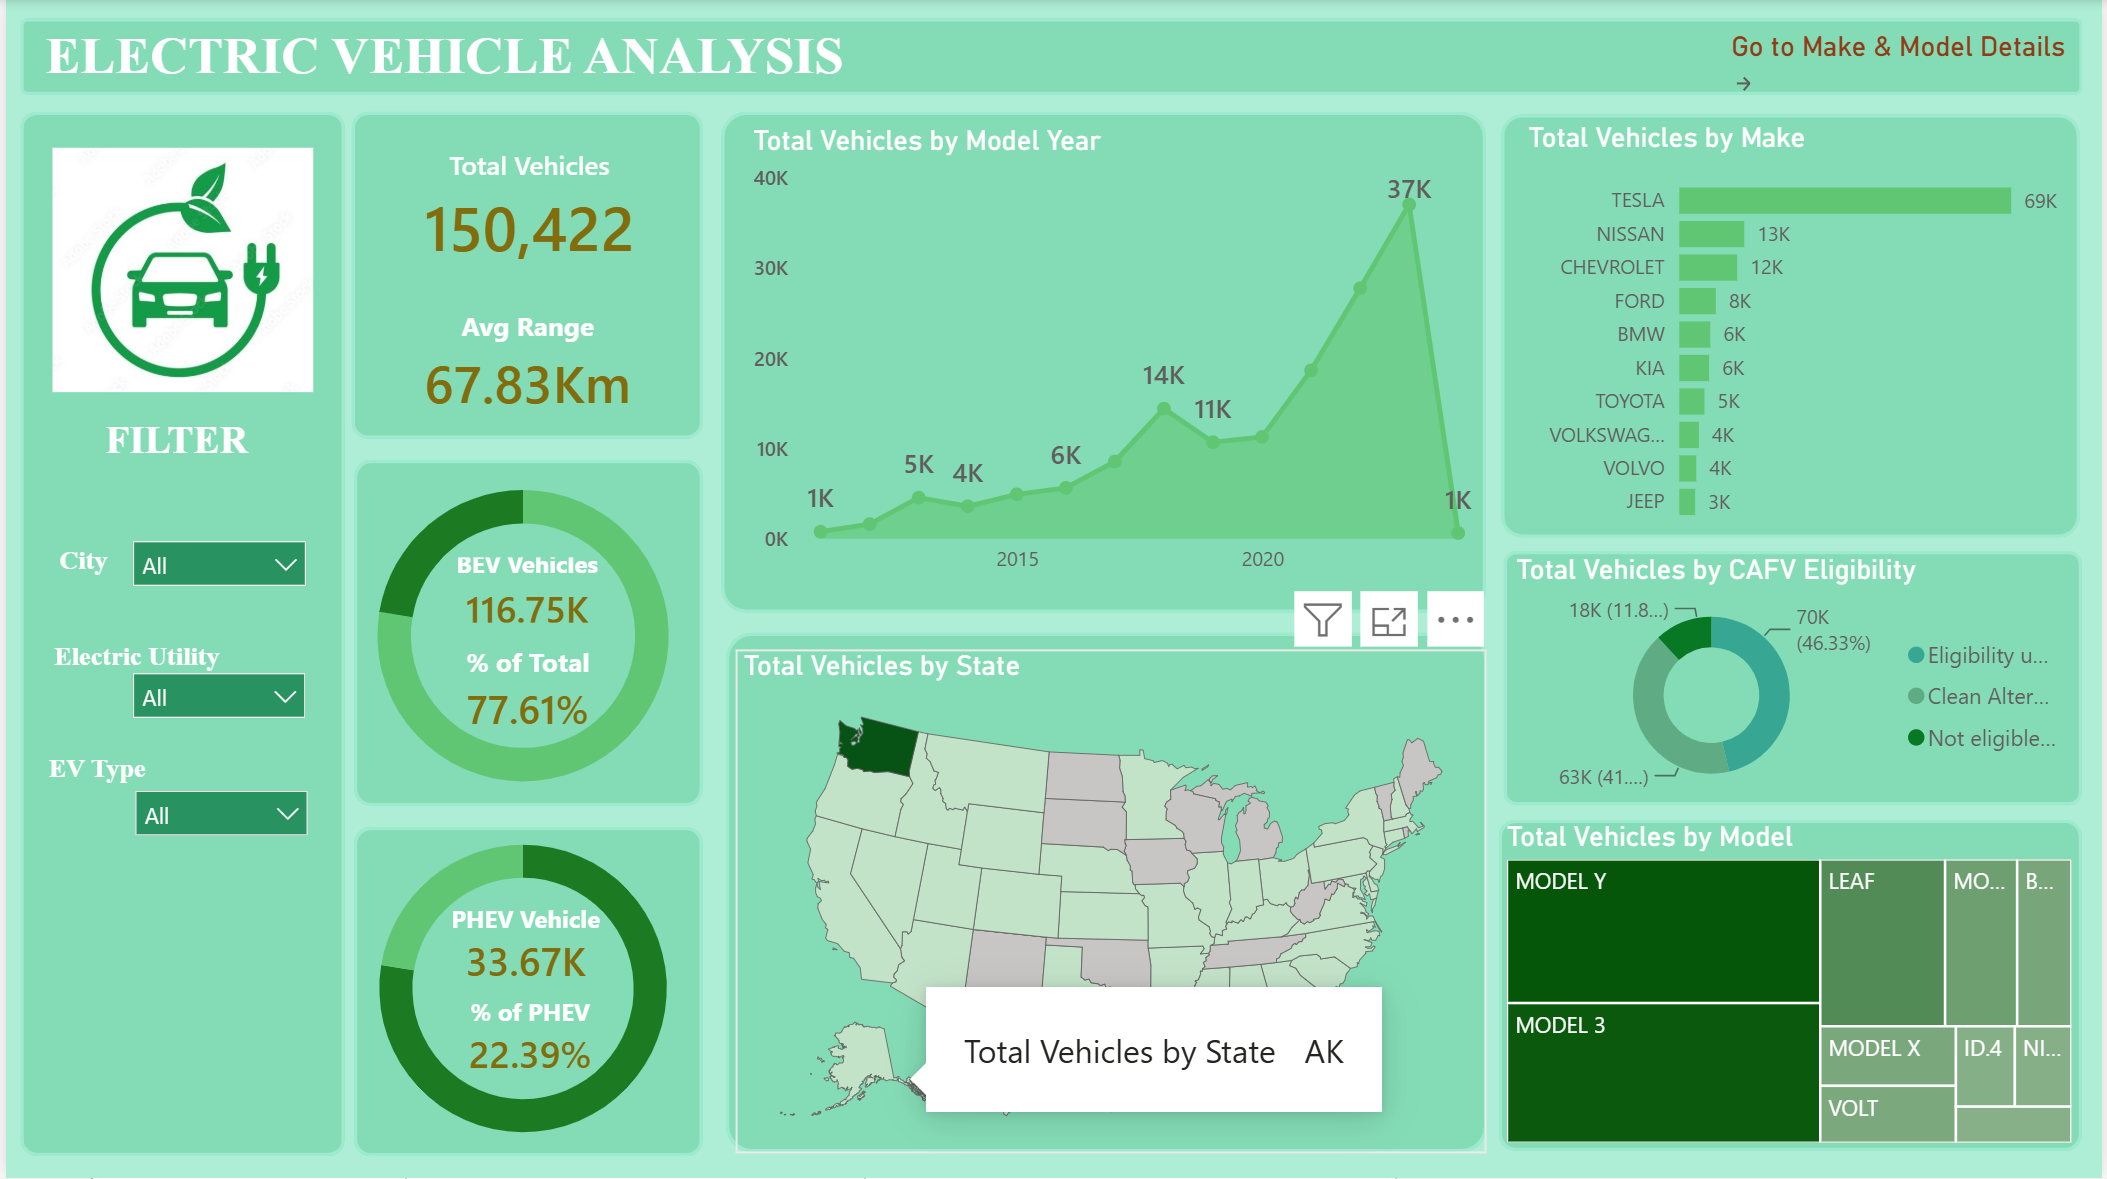

The page's visual inventory and layout, read from the dashboard file:
{"tool":"powerbi","page":{"name":"Main Dashboard","canvas":[1280,720],"ordinal":0},"visuals":[{"type":"shape","box":[213,281.5,213,211.5],"z":0},{"type":"shape","box":[8.4,11.7,1258.8,46.9],"z":1000},{"type":"textbox","box":[19,11.7,509.9,48.3],"z":2000},{"type":"shape","box":[211.5,68.5,214.5,199.6],"z":3000},{"type":"cardVisual","fields":{"Data":["CountNonNull(Electric Vehicles Population.Vehicle ID)"]},"box":[202.6,76,235.3,101.3],"z":4000},{"type":"cardVisual","fields":{"Data":["Avg Range.Average Range"]},"box":[208.5,171.3,221.9,101.3],"z":5000},{"type":"shape","box":[213,504.9,213,201.1],"z":6000},{"type":"donutChart","fields":{"Category":["Avg Range.Electric Vehicle Type"],"Y":["Avg Range.Total Vehicles"]},"box":[186.2,272.6,259.2,232.3],"z":7000},{"type":"cardVisual","fields":{"Data":["Avg Range.BEV Vehicles"]},"box":[244.3,323.2,147.4,74.5],"z":8000},{"type":"cardVisual","fields":{"Data":["Avg Range.% of BEV"]},"box":[245.7,375.3,146,92.3],"z":9000},{"type":"donutChart","fields":{"Category":["Avg Range.Electric Vehicle Type"],"Y":["Avg Range.Total Vehicles"]},"box":[186.2,490,259.2,229.4],"z":10000},{"type":"cardVisual","fields":{"Data":["Avg Range.PHEV Vehicle"]},"box":[238.3,536.2,157.9,81.9],"z":11000},{"type":"cardVisual","fields":{"Data":["Avg Range.% of PHEV"]},"box":[248.7,589.8,143,86.4],"z":12000},{"type":"shape","box":[8.9,68.5,198.1,637.5],"z":13000},{"type":"shape","box":[436.9,68.3,466.9,305.8],"z":14000},{"type":"areaChart","fields":{"Category":["Avg Range.Model Year"],"Y":["Avg Range.Total Vehicles"]},"box":[450.6,76.5,453.3,284],"z":15000},{"type":"shape","box":[439.4,387.2,464.7,317.2],"z":16000},{"type":"shapeMap","fields":{"Category":["Avg Range.State"]},"box":[445.3,397.7,458.7,306.8],"z":17000},{"type":"shape","box":[913.5,70.7,353.3,258.5],"z":18000},{"type":"barChart","fields":{"Category":["Avg Range.Make"],"Y":["Avg Range.Total Vehicles"]},"box":[924.1,75.4,337.1,253.8],"z":19000},{"type":"shape","box":[914.2,337,353.1,155.3],"z":20000},{"type":"donutChart","fields":{"Category":["Avg Range.Clean Alternative Fuel Vehicle (CAFV) Eligibility"],"Y":["Avg Range.Total Vehicles"]},"box":[917.3,338.1,349.9,154],"z":21000},{"type":"shape","box":[911.3,501.1,356,202.2],"z":22000},{"type":"treemap","fields":{"Group":["Avg Range.Model"],"Values":["Avg Range.Total Vehicles"]},"box":[911.3,501.1,354.6,202.2],"z":23000},{"type":"textbox","box":[55.2,251.1,108.8,46.9],"z":24000},{"type":"textbox","box":[19.5,220.6,54.2,41],"z":25000},{"type":"slicer","fields":{"Values":["Avg Range.City"]},"box":[67.4,320.9,126,54.2],"z":26000},{"type":"textbox","box":[20.1,328.1,53.6,41.8],"z":27000},{"type":"slicer","fields":{"Values":["Avg Range.Electric Vehicle Type"]},"box":[68.6,473.7,125.5,53.6],"z":28000},{"type":"textbox","box":[8.4,455.3,93.7,50.2],"z":29000},{"type":"slicer","fields":{"Values":["Avg Range.Electric Utility"]},"box":[67,401.7,125.5,53.6],"z":30000},{"type":"textbox","box":[8.4,386.7,142.3,53.6],"z":31000},{"type":"image","box":[11.7,90.4,192.5,149],"z":32000},{"type":"actionButton","title":"Go to Make & Model Details","box":[1052,19,206.6,41],"z":33000}]}

Visuals, with their boxes in screenshot pixels (x1, y1, x2, y2), scaled from the page's 1280x720 canvas onto the 2107x1179 screenshot:
shape: [351,461,701,807]
shape: [14,19,2086,96]
textbox: [31,19,871,98]
shape: [348,112,701,439]
cardVisual - CountNonNull(Electric Vehicles Population.Vehicle ID): [333,124,721,290]
cardVisual - Avg Range.Average Range: [343,281,708,446]
shape: [351,827,701,1156]
donutChart - Avg Range.Electric Vehicle Type x Avg Range.Total Vehicles: [307,446,733,827]
cardVisual - Avg Range.BEV Vehicles: [402,529,645,651]
cardVisual - Avg Range.% of BEV: [404,615,645,766]
donutChart - Avg Range.Electric Vehicle Type x Avg Range.Total Vehicles: [307,802,733,1178]
cardVisual - Avg Range.PHEV Vehicle: [392,878,652,1012]
cardVisual - Avg Range.% of PHEV: [409,966,645,1107]
shape: [15,112,341,1156]
shape: [719,112,1488,613]
areaChart - Avg Range.Model Year x Avg Range.Total Vehicles: [742,125,1488,590]
shape: [723,634,1488,1153]
shapeMap - Avg Range.State: [733,651,1488,1154]
shape: [1504,116,2085,539]
barChart - Avg Range.Make x Avg Range.Total Vehicles: [1521,123,2076,539]
shape: [1505,552,2086,806]
donutChart - Avg Range.Clean Alternative Fuel Vehicle (CAFV) Eligibility x Avg Range.Total Vehicles: [1510,554,2086,806]
shape: [1500,821,2086,1152]
treemap - Avg Range.Model x Avg Range.Total Vehicles: [1500,821,2084,1152]
textbox: [91,411,270,488]
textbox: [32,361,121,428]
slicer - Avg Range.City: [111,525,318,614]
textbox: [33,537,121,606]
slicer - Avg Range.Electric Vehicle Type: [113,776,320,863]
textbox: [14,746,168,828]
slicer - Avg Range.Electric Utility: [110,658,317,746]
textbox: [14,633,248,721]
image: [19,148,336,392]
"Go to Make & Model Details" actionButton: [1732,31,2072,98]
